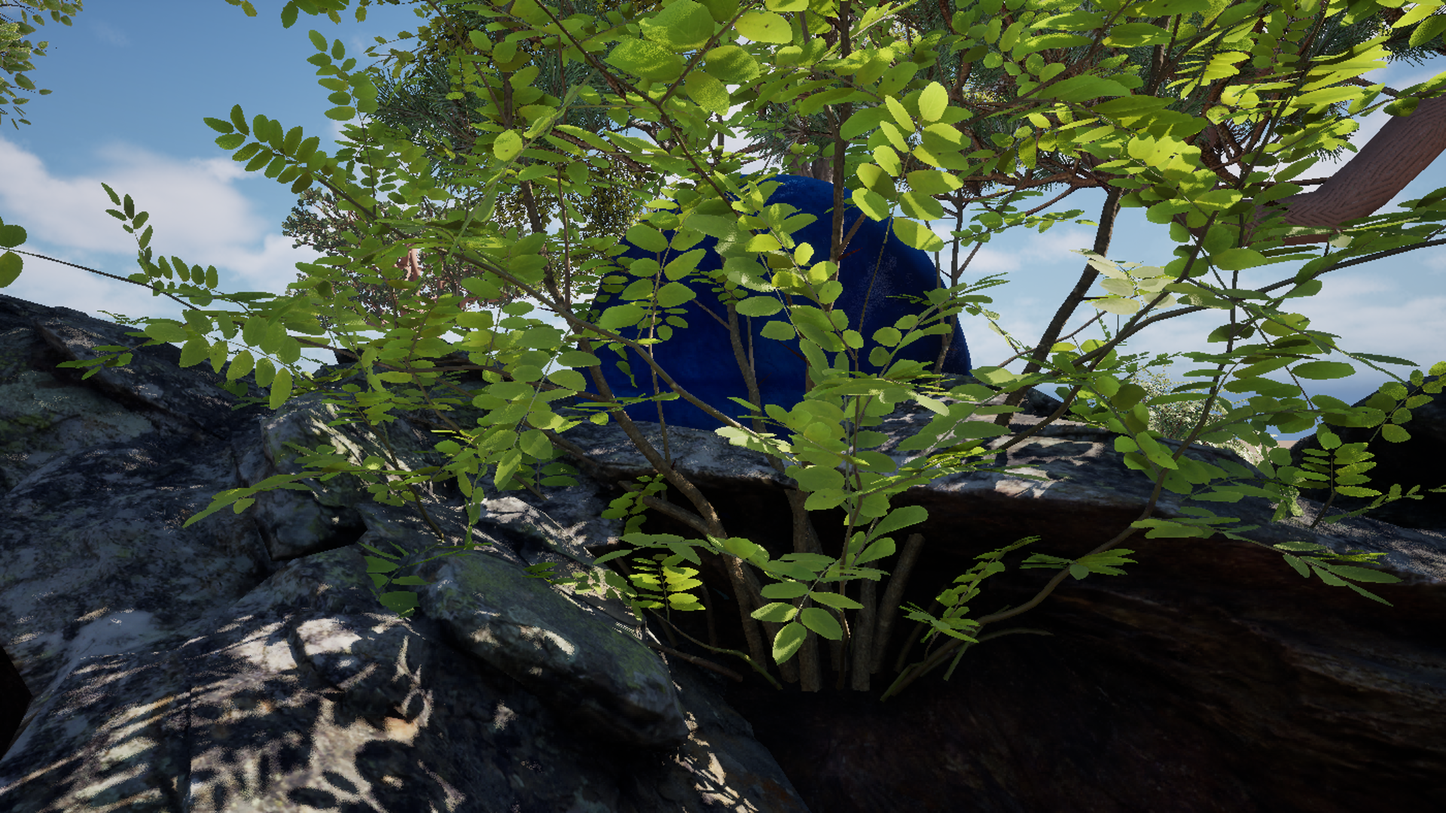Piplup: (138, 0, 1284, 813)
